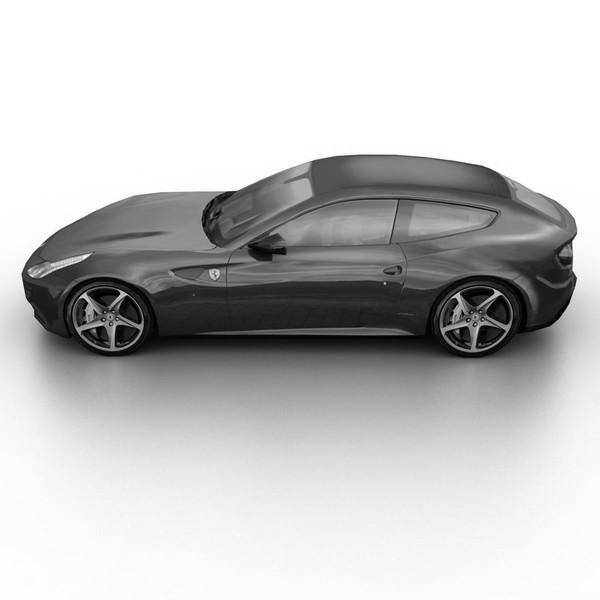car: (22, 156, 583, 363)
